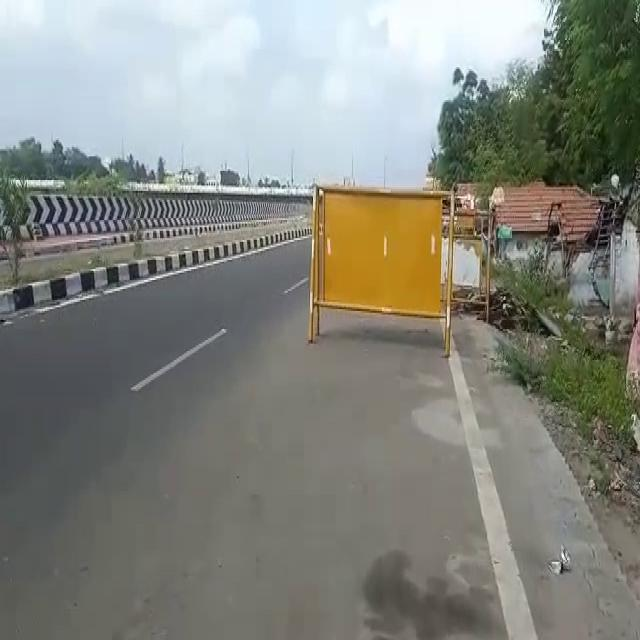fallen_object: (269, 145, 474, 348)
